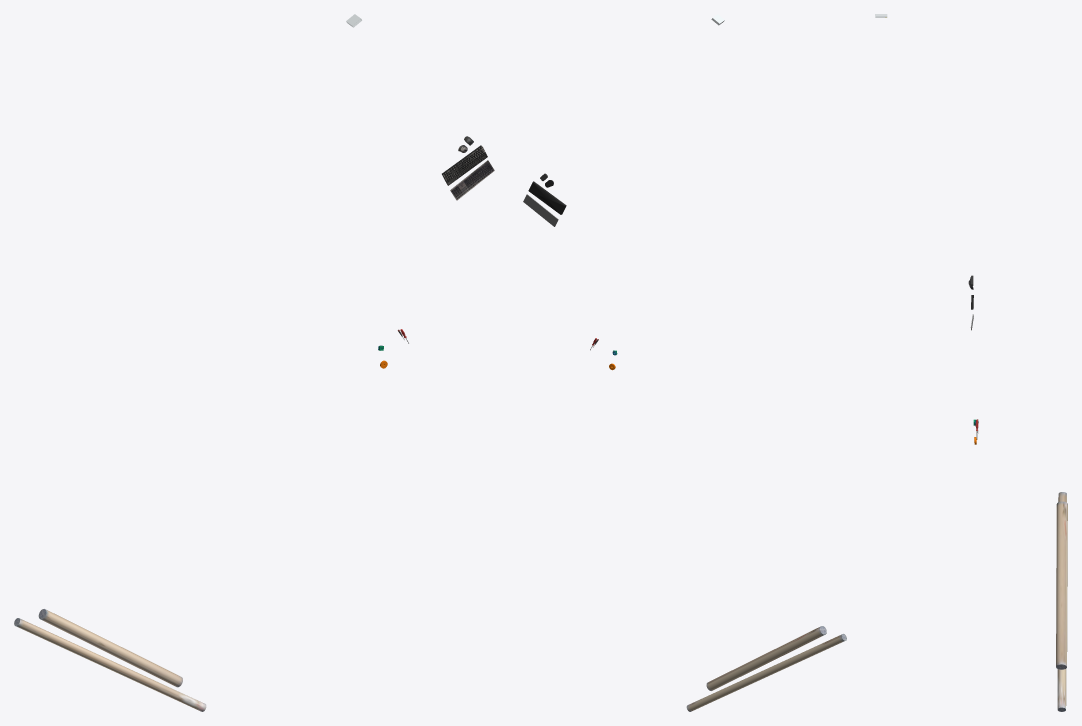
File: props-3.glb
3 views of the same model, side by side, from view 1: azimuth 30°, elevation 25°; view 2: azimuth 150°, elevation 25°; view 3: azimuth 270°, elevation 25° (orthographic). The views are drawn at different scales.
Parts seen in each view (by area): view 1: asset_1981_primitive_0, asset_1979_primitive_0; view 2: asset_1981_primitive_0, asset_1979_primitive_0; view 3: asset_1979_primitive_0, asset_1981_primitive_0.
Boxes of the visible parts, bbox=[...] form: asset_1981_primitive_0: bbox=[14, 618, 206, 711]; asset_1979_primitive_0: bbox=[38, 609, 182, 687]; asset_1981_primitive_0: bbox=[686, 634, 846, 711]; asset_1979_primitive_0: bbox=[706, 626, 826, 690]; asset_1979_primitive_0: bbox=[1056, 501, 1067, 669]; asset_1981_primitive_0: bbox=[1057, 492, 1066, 711].
Size of the model in its own units: 4.37 by 7.22 by 1.73.
Materials: 20 (8 with a texture image).
